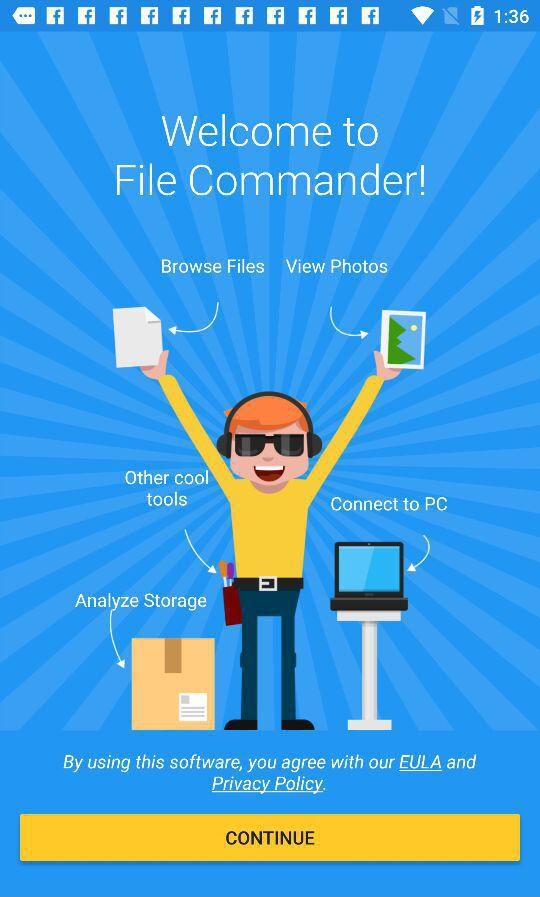BackgroundImage: (1, 33, 540, 897)
Text: (116, 114, 426, 198), (63, 752, 479, 796)
TextButton: (20, 813, 521, 862)
UpperTaskBar: (1, 1, 540, 33)
